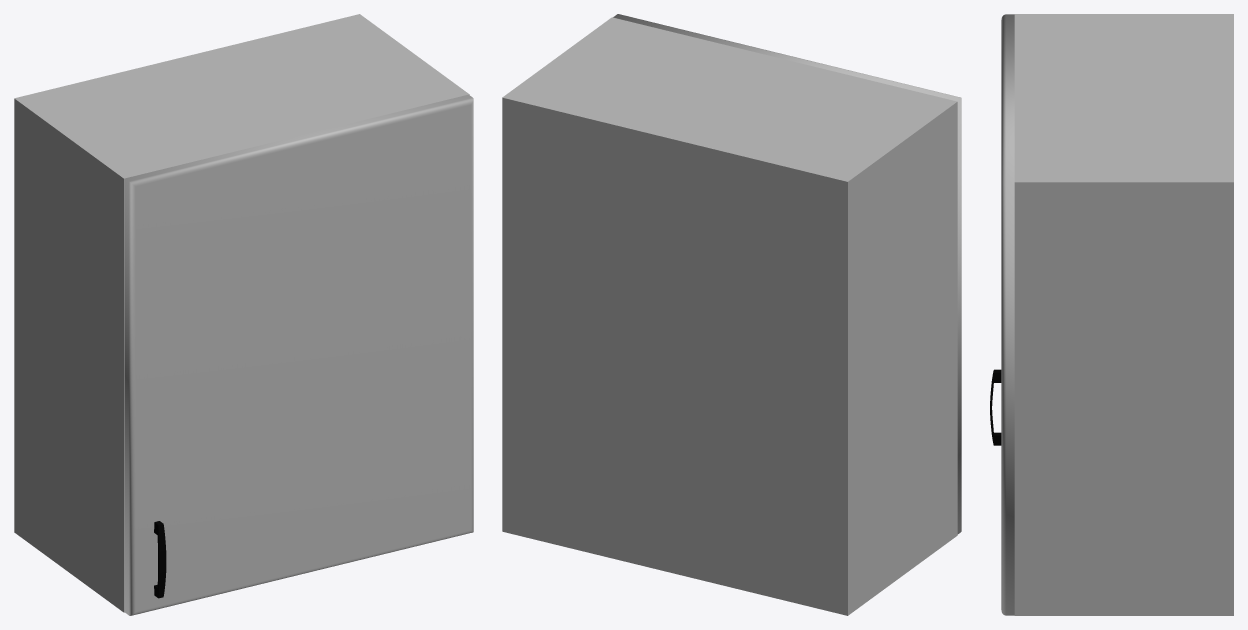
3 renders of one model, left to right at view 1: azimuth 30°, elevation 25°; view 2: azimuth 150°, elevation 25°; view 3: azimuth 270°, elevation 25°, orthographic.
Visible parts, largest first — view 1: Box011, Box001, Obj3d66-503491-2-344; view 2: Box001, Box011; view 3: Box001, Box011, Obj3d66-503491-2-344.
Boxes of the visible parts, <box> form: Box011: <box>124,94,473,615</box>; Box001: <box>14,14,469,612</box>; Obj3d66-503491-2-344: <box>154,521,166,598</box>; Box001: <box>502,17,957,615</box>; Box011: <box>613,14,961,534</box>; Box001: <box>1014,14,1233,615</box>; Box011: <box>1001,14,1014,615</box>; Obj3d66-503491-2-344: <box>990,369,1001,445</box>.
Size of the model in its own units: 0.6 by 0.72 by 0.3671.
Materials: 2 (1 with a texture image).
